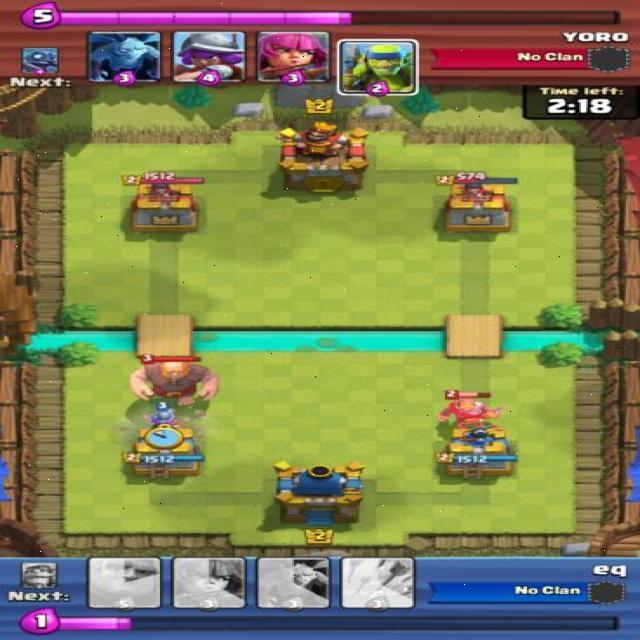EGiant: (131, 355, 218, 405)
EKingTower: (279, 122, 368, 192)
EKnight: (440, 390, 500, 430)
EnemyPrincessTower: (130, 178, 203, 231), (445, 178, 516, 231)
OMusk: (151, 399, 181, 429)
OwnKingTower: (274, 463, 362, 528)
OwnPrincessTower: (125, 424, 203, 476), (438, 425, 516, 476)
